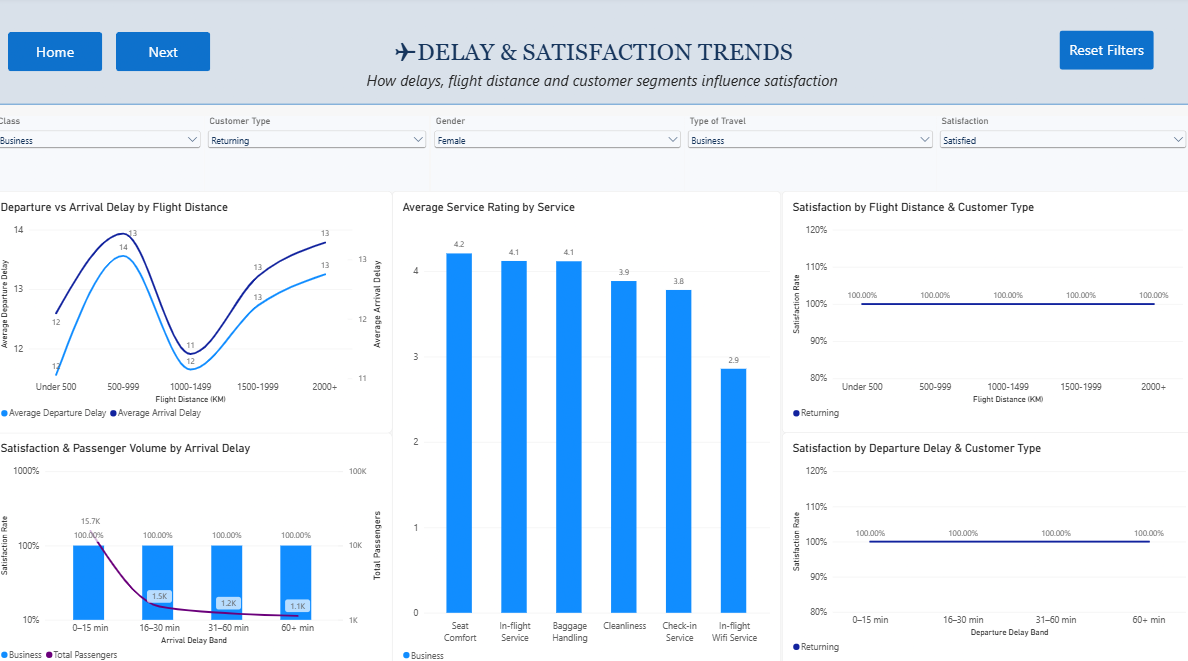

What the dashboard file says about the page in this screenshot:
{"tool":"powerbi","page":{"name":"Trends","canvas":[1920,1080],"ordinal":2},"visuals":[{"type":"shape","box":[5,0,1910,172.5],"z":0},{"type":"slicer","fields":{"Values":["Airline.Class"]},"box":[5,190,335,120],"z":1000},{"type":"slicer","fields":{"Values":["Airline.Customer Type"]},"box":[340,190,357.5,120],"z":2000},{"type":"slicer","fields":{"Values":["Airline.Type of Travel"]},"box":[1105,190,400,120],"z":3000},{"type":"slicer","fields":{"Values":["Airline.Satisfaction"]},"box":[1505,190,402.5,120],"z":4000},{"type":"slicer","fields":{"Values":["Airline.Gender"]},"box":[702.5,190,402.5,120],"z":5000},{"type":"lineClusteredColumnComboChart","title":"Satisfaction & Passenger Volume by Arrival Delay","fields":{"Y":["Airline.Satisfaction Rate"],"Category":["Airline.Arrival Delay Band"],"Series":["Airline.Class"],"Y2":["Airline.Total Passengers"]},"box":[0,695,640,385],"z":6000},{"type":"columnChart","title":"Average Service Rating by Service","fields":{"Series":["Airline.Class"],"Category":["Service.Service"],"Y":["Airline.RLS Service Rating"]},"box":[639.4,310.2,618.9,770.3],"z":7000},{"type":"lineChart","title":"Satisfaction by Flight Distance & Customer Type","fields":{"Category":["Airline.Flight Distance Group"],"Y":["Airline.Satisfaction Rate"],"Series":["Airline.Customer Type"]},"box":[1260,310,655,385],"z":8000},{"type":"lineChart","title":"Departure vs Arrival Delay by Flight Distance","fields":{"Category":["Airline.Flight Distance Group"],"Y":["Airline.Average Departure Delay"],"Y2":["Airline.Average Arrival Delay"]},"box":[0,310,640,385],"z":9000},{"type":"lineChart","title":"Satisfaction by Departure Delay & Customer Type","fields":{"Category":["Airline.Departure Delay Band"],"Y":["Airline.Satisfaction Rate"],"Series":["Airline.Customer Type"]},"box":[1260,695,660,372.5],"z":10000},{"type":"actionButton","box":[1700,55,150,62.5],"z":11000},{"type":"actionButton","box":[27.5,57.5,150,62.5],"z":12000},{"type":"actionButton","box":[200,56.7,150,62.5],"z":13000},{"type":"textbox","box":[600,117.5,805,55],"z":14000}]}

Visuals, with their boxes in screenshot pixels (x1, y1, x2, y2), scaled from the page's 1920x1080 canvas onto the 1188x661 screenshot:
shape: (x1=3, y1=0, x2=1185, y2=106)
slicer - Airline.Class: (x1=3, y1=116, x2=210, y2=190)
slicer - Airline.Customer Type: (x1=210, y1=116, x2=432, y2=190)
slicer - Airline.Type of Travel: (x1=684, y1=116, x2=931, y2=190)
slicer - Airline.Satisfaction: (x1=931, y1=116, x2=1180, y2=190)
slicer - Airline.Gender: (x1=435, y1=116, x2=684, y2=190)
"Satisfaction & Passenger Volume by Arrival Delay" lineClusteredColumnComboChart: (x1=0, y1=425, x2=396, y2=660)
"Average Service Rating by Service" columnChart: (x1=396, y1=190, x2=779, y2=660)
"Satisfaction by Flight Distance & Customer Type" lineChart: (x1=780, y1=190, x2=1185, y2=425)
"Departure vs Arrival Delay by Flight Distance" lineChart: (x1=0, y1=190, x2=396, y2=425)
"Satisfaction by Departure Delay & Customer Type" lineChart: (x1=780, y1=425, x2=1187, y2=653)
actionButton: (x1=1052, y1=34, x2=1145, y2=72)
actionButton: (x1=17, y1=35, x2=110, y2=73)
actionButton: (x1=124, y1=35, x2=217, y2=73)
textbox: (x1=371, y1=72, x2=869, y2=106)
